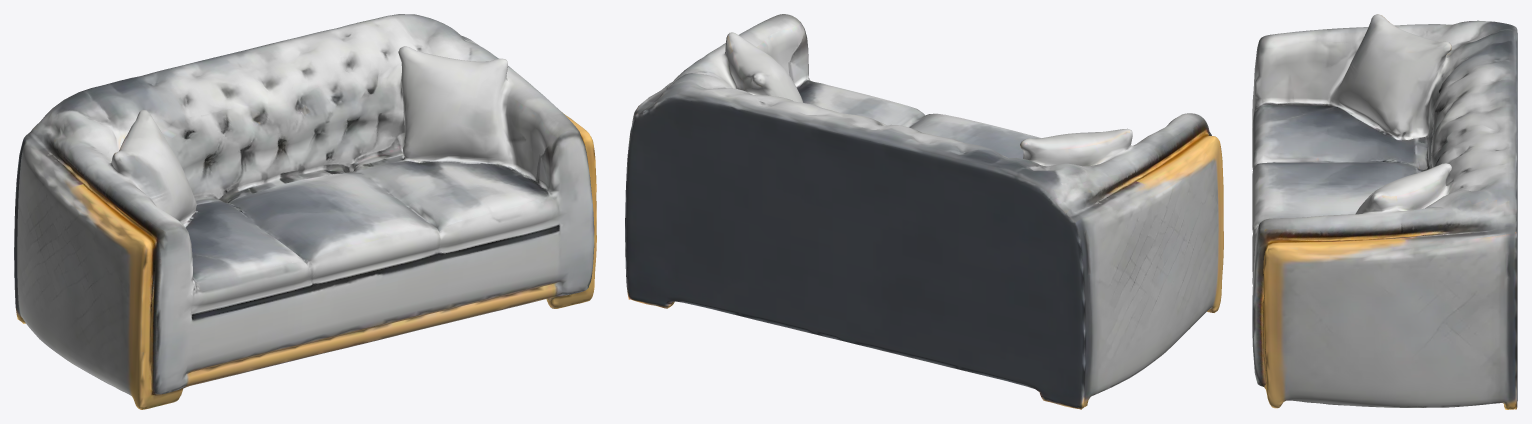
The model's file is web.glb.
The picture shows the model from 3 angles, left to right: view 1: azimuth 30°, elevation 25°; view 2: azimuth 150°, elevation 25°; view 3: azimuth 270°, elevation 25°; orthographic projection. The views are drawn at different scales.
Visible parts, largest first — view 1: model; view 2: model; view 3: model.
Boxes of the visible parts, x1,y1,x2,y2 form: model: [14, 14, 596, 409]; model: [625, 14, 1223, 409]; model: [1252, 14, 1517, 409].
Size of the model in its own units: 2 by 0.8734 by 1.01.
1 material, 1 textured.
